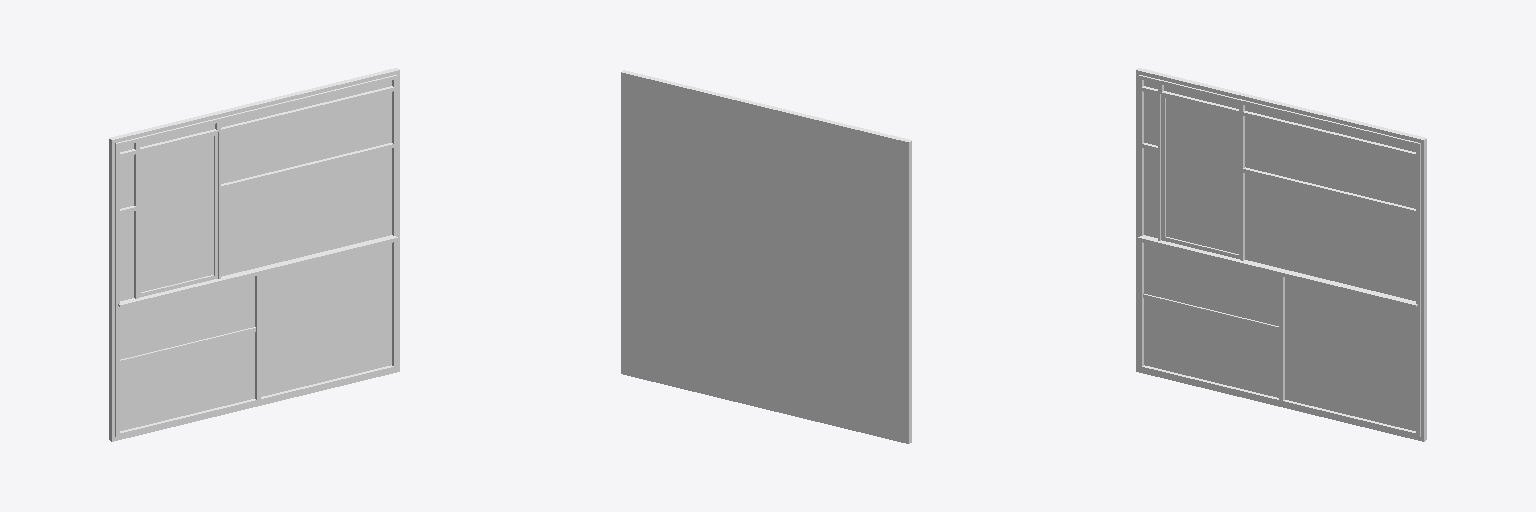
The model's file is wallWithWindow4-2-lod1.obj.
The picture shows the model from 3 angles: view 1: azimuth 30°, elevation 25°; view 2: azimuth 150°, elevation 25°; view 3: azimuth 330°, elevation 25°; orthographic projection.
Parts seen in each view (by area): view 1: lod1; view 2: lod1; view 3: lod1.
Part boxes in pixels (x1,y1,x2,y2): lod1: (109,68,399,441); lod1: (621,70,911,443); lod1: (1136,68,1426,441).
Bounding box in the file's own units: 16 × 16 × 0.6.